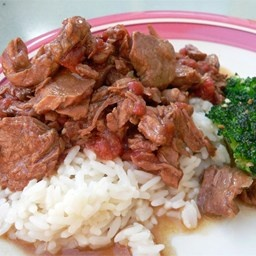background: (0, 6, 102, 102)
